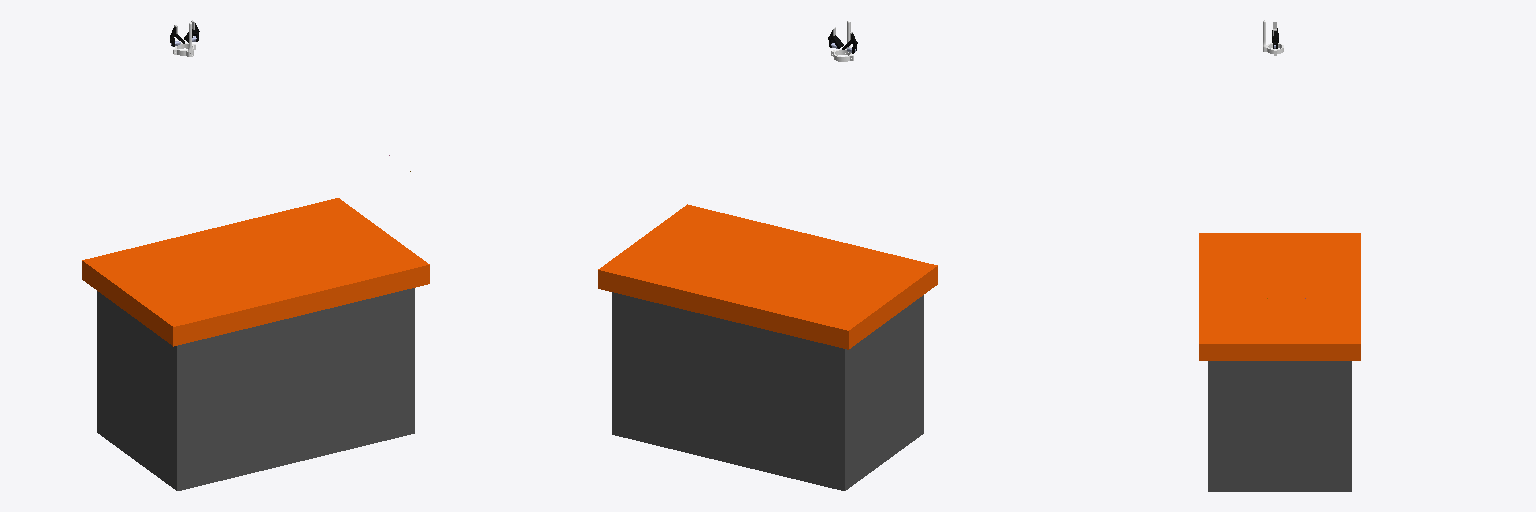
--- Render facts (derived) ---
3 views of the same robot in one strip: view 1: azimuth 30°, elevation 25°; view 2: azimuth 150°, elevation 25°; view 3: azimuth 270°, elevation 25° (orthographic).
Robot: kinova_fel_shape_completion — 35 links, 34 joints (9 revolute, 4 continuous, 21 fixed); root link world; default pose: every joint at zero.
Visible links, largest first — view 1: table1; view 2: table1; view 3: table1.
Boxes of the visible links, <box> form: table1: <box>82,198,429,490</box>; table1: <box>598,204,937,490</box>; table1: <box>1199,233,1360,491</box>.
Size in the robot's own frame: 1.49 by 0.855 by 2.25 metres.
11 mesh visuals loaded from 17 distinct referenced files (6 binary STL); not drawn: 11 (reference not matched to a file when rendering).

The robot description file, URDF, robot "kinova_fel_shape_completion":
<?xml version="1.0" encoding="utf-8"?>

<!-- =================================================================================== -->

<!-- |    This document was autogenerated by xacro from [local-path]/work/shape_detection/main_ws/src/kinova_mujoco/urdf/kinova_fel_shape_completion.xacro | -->

<!-- |    EDITING THIS FILE BY HAND IS NOT RECOMMENDED                                 | -->

<!-- =================================================================================== -->

<robot name="kinova_fel_shape_completion">

  <mujoco>

    <compiler balanceinertia="true" meshdir="../meshes/" strippath="true"/>

  </mujoco>

  <material name="aluminum">

    <color rgba="0.5 0.5 0.5 1"/>

  </material>

  <material name="plastic">

    <color rgba="0.1 0.1 0.1 1"/>

  </material>

  <material name="Black">

    <color rgba="0.0 0.0 0.0 1.0"/>

  </material>

  <material name="Blue">

    <color rgba="0.0 0.0 0.8 1.0"/>

  </material>

  <material name="Green">

    <color rgba="0.0 0.8 0.0 1.0"/>

  </material>

  <material name="Grey">

    <color rgba="0.4 0.4 0.4 1.0"/>

  </material>

  <material name="Orange">

    <color rgba="1.0 0.423529411765 0.0392156862745 1.0"/>

  </material>

  <material name="Brown">

    <color rgba="0.870588235294 0.811764705882 0.764705882353 1.0"/>

  </material>

  <material name="Red">

    <color rgba="0.8 0.0 0.0 1.0"/>

  </material>

  <material name="White">

    <color rgba="1.0 1.0 1.0 1.0"/>

  </material>

  <material name="Purple">

    <color rgba="0.2117 0.3294 0.4666 1.0"/>

  </material>

  <material name="dummy">

    <color rgba="0.75294 0.75294 0.75294 1"/>

  </material>

  <link name="world"/>

  <joint name="world_robot_joint" type="fixed">

    <origin rpy="0 0 0" xyz="0 0 0.0"/>

    <parent link="world"/>

    <child link="base_link"/>

  </joint>

  <!-- Run the macros -->

  <link name="base_link">

    <inertial>

      <origin rpy="0 0 0" xyz="-0.000648 -0.000166 0.084487"/>

      <mass value="1.697"/>

      <inertia ixx="0.004622" ixy="9E-06" ixz="6E-05" iyy="0.004495" iyz="9E-06" izz="0.002079"/>

    </inertial>

    <visual>

      <origin rpy="0 0 0" xyz="0 0 0"/>

      <geometry>

        <mesh filename="package://kinova_mujoco/meshes/base_link.STL"/>
      </geometry>

      <material name="DUMMY_MATERIAL">

        <color rgba="0.75294 0.75294 0.75294 1"/>

      </material>

    </visual>

    <collision>

      <origin rpy="0 0 0" xyz="0 0 0"/>

      <geometry>

        <mesh filename="package://kinova_mujoco/meshes/base_link.STL"/>
      </geometry>

    </collision>

  </link>

  <link name="shoulder_link">

    <inertial>

      <origin rpy="0 0 0" xyz="-2.3E-05 -0.010364 -0.07336"/>

      <mass value="1.3773"/>

      <inertia ixx="0.00457" ixy="1E-06" ixz="2E-06" iyy="0.004831" iyz="0.000448" izz="0.001409"/>

    </inertial>

    <visual>

      <origin rpy="0 0 0" xyz="0 0 0"/>

      <geometry>

        <mesh filename="package://kinova_mujoco/meshes/shoulder_link.STL"/>
      </geometry>

      <material name="DUMMY_MATERIAL">

        <color rgba="0.75294 0.75294 0.75294 1"/>

      </material>

    </visual>

    <collision>

      <origin rpy="0 0 0" xyz="0 0 0"/>

      <geometry>

        <mesh filename="package://kinova_mujoco/meshes/shoulder_link.STL"/>
      </geometry>

    </collision>

  </link>

  <joint name="joint_1" type="continuous">

    <origin rpy="3.1416 2.7629E-18 -4.9305E-36" xyz="0 0 0.15643"/>

    <parent link="base_link"/>

    <child link="shoulder_link"/>

    <axis xyz="0 0 1"/>

    <limit effort="39" velocity="1.3963"/>

  </joint>

  <link name="half_arm_1_link">

    <inertial>

      <origin rpy="0 0 0" xyz="-4.4E-05 -0.09958 -0.013278"/>

      <mass value="1.1636"/>

      <inertia ixx="0.011088" ixy="5E-06" ixz="0" iyy="0.001072" iyz="-0.000691" izz="0.011255"/>

    </inertial>

    <visual>

      <origin rpy="0 0 0" xyz="0 0 0"/>

      <geometry>

        <mesh filename="package://kinova_mujoco/meshes/half_arm_1_link.STL"/>
      </geometry>

      <material name="DUMMY_MATERIAL">

        <color rgba="0.75294 0.75294 0.75294 1"/>

      </material>

    </visual>

    <collision>

      <origin rpy="0 0 0" xyz="0 0 0"/>

      <geometry>

        <mesh filename="package://kinova_mujoco/meshes/half_arm_1_link.STL"/>
      </geometry>

    </collision>

  </link>

  <joint name="joint_2" type="revolute">

    <origin rpy="1.5708 2.1343E-17 -1.1102E-16" xyz="0 0.005375 -0.12838"/>

    <parent link="shoulder_link"/>

    <child link="half_arm_1_link"/>

    <axis xyz="0 0 1"/>

    <limit effort="39" lower="-2.41" upper="2.41" velocity="1.3963"/>

  </joint>

  <link name="half_arm_2_link">

    <inertial>

      <origin rpy="0 0 0" xyz="-4.4E-05 -0.006641 -0.117892"/>

      <mass value="1.1636"/>

      <inertia ixx="0.010932" ixy="0" ixz="-7E-06" iyy="0.011127" iyz="0.000606" izz="0.001043"/>

    </inertial>

    <visual>

      <origin rpy="0 0 0" xyz="0 0 0"/>

      <geometry>

        <mesh filename="package://kinova_mujoco/meshes/half_arm_2_link.STL"/>
      </geometry>

      <material name="DUMMY_MATERIAL">

        <color rgba="0.75294 0.75294 0.75294 1"/>

      </material>

    </visual>

    <collision>

      <origin rpy="0 0 0" xyz="0 0 0"/>

      <geometry>

        <mesh filename="package://kinova_mujoco/meshes/half_arm_2_link.STL"/>
      </geometry>

    </collision>

  </link>

  <joint name="joint_3" type="continuous">

    <origin rpy="-1.5708 1.2326E-32 -2.9122E-16" xyz="0 -0.21038 -0.006375"/>

    <parent link="half_arm_1_link"/>

    <child link="half_arm_2_link"/>

    <axis xyz="0 0 1"/>

    <limit effort="39" velocity="1.3963"/>

  </joint>

  <link name="forearm_link">

    <inertial>

      <origin rpy="0 0 0" xyz="-1.8E-05 -0.075478 -0.015006"/>

      <mass value="0.9302"/>

      <inertia ixx="0.008147" ixy="-1E-06" ixz="0" iyy="0.000631" iyz="-0.0005" izz="0.008316"/>

    </inertial>

    <visual>

      <origin rpy="0 0 0" xyz="0 0 0"/>

      <geometry>

        <mesh filename="package://kinova_mujoco/meshes/forearm_link.STL"/>
      </geometry>

      <material name="DUMMY_MATERIAL">

        <color rgba="0.75294 0.75294 0.75294 1"/>

      </material>

    </visual>

    <collision>

      <origin rpy="0 0 0" xyz="0 0 0"/>

      <geometry>

        <mesh filename="package://kinova_mujoco/meshes/forearm_link.STL"/>
      </geometry>

    </collision>

  </link>

  <joint name="joint_4" type="revolute">

    <origin rpy="1.5708 -6.6954E-17 -1.6653E-16" xyz="0 0.006375 -0.21038"/>

    <parent link="half_arm_2_link"/>

    <child link="forearm_link"/>

    <axis xyz="0 0 1"/>

    <limit effort="39" lower="-2.57" upper="2.57" velocity="1.3963"/>

    <!--2.66-->

  </joint>

  <link name="spherical_wrist_1_link">

    <inertial>

      <origin rpy="0 0 0" xyz="1E-06 -0.009432 -0.063883"/>

      <mass value="0.6781"/>

      <inertia ixx="0.001596" ixy="0" ixz="0" iyy="0.001607" iyz="0.000256" izz="0.000399"/>

    </inertial>

    <visual>

      <origin rpy="0 0 0" xyz="0 0 0"/>

      <geometry>

        <mesh filename="package://kinova_mujoco/meshes/spherical_wrist_1_link.STL"/>
      </geometry>

      <material name="DUMMY_MATERIAL">

        <color rgba="0.75294 0.75294 0.75294 1"/>

      </material>

    </visual>

    <collision>

      <origin rpy="0 0 0" xyz="0 0 0"/>

      <geometry>

        <mesh filename="package://kinova_mujoco/meshes/spherical_wrist_1_link.STL"/>
      </geometry>

    </collision>

  </link>

  <joint name="joint_5" type="continuous">

    <origin rpy="-1.5708 2.2204E-16 -6.373E-17" xyz="0 -0.20843 -0.006375"/>

    <parent link="forearm_link"/>

    <child link="spherical_wrist_1_link"/>

    <axis xyz="0 0 1"/>

    <limit effort="9" velocity="1.2218"/>

  </joint>

  <link name="spherical_wrist_2_link">

    <inertial>

      <origin rpy="0 0 0" xyz="1E-06 -0.045483 -0.00965"/>

      <mass value="0.6781"/>

      <inertia ixx="0.001641" ixy="0" ixz="0" iyy="0.00041" iyz="-0.000278" izz="0.001641"/>

    </inertial>

    <visual>

      <origin rpy="0 0 0" xyz="0 0 0"/>

      <geometry>

        <mesh filename="package://kinova_mujoco/meshes/spherical_wrist_2_link.STL"/>
      </geometry>

      <material name="DUMMY_MATERIAL">

        <color rgba="0.75294 0.75294 0.75294 1"/>

      </material>

    </visual>

    <collision>

      <origin rpy="0 0 0" xyz="0 0 0"/>

      <geometry>

        <mesh filename="package://kinova_mujoco/meshes/spherical_wrist_2_link.STL"/>
      </geometry>

    </collision>

  </link>

  <joint name="joint_6" type="revolute">

    <origin rpy="1.5708 9.2076E-28 -8.2157E-15" xyz="0 0.00017505 -0.10593"/>

    <parent link="spherical_wrist_1_link"/>

    <child link="spherical_wrist_2_link"/>

    <axis xyz="0 0 1"/>

    <limit effort="9" lower="-2.08" upper="2.08" velocity="1.2218"/>

    <!--2.23-->

  </joint>

  <link name="bracelet_link">

    <inertial>

      <origin rpy="0 0 0" xyz="0.000281 0.011402 -0.029798"/>

      <mass value="0.5"/>

      <inertia ixx="0.000587" ixy="3E-06" ixz="3E-06" iyy="0.000369" iyz="-0.000118" izz="0.000609"/>

    </inertial>

    <visual>

      <origin rpy="0 0 0" xyz="0 0 0"/>

      <geometry>

        <mesh filename="package://kinova_mujoco/meshes/bracelet_with_vision_link.STL"/>
      </geometry>

      <material name="DUMMY_MATERIAL">

        <color rgba="0.75294 0.75294 0.75294 1"/>

      </material>

    </visual>

    <collision>

      <origin rpy="0 0 0" xyz="0 0 0"/>

      <geometry>

        <mesh filename="package://kinova_mujoco/meshes/bracelet_with_vision_link.STL"/>
      </geometry>

    </collision>

  </link>

  <joint name="joint_7" type="continuous">

    <origin rpy="-1.5708 -5.5511E-17 9.6396E-17" xyz="0 -0.10593 -0.00017505"/>

    <parent link="spherical_wrist_2_link"/>

    <child link="bracelet_link"/>

    <axis xyz="0 0 1"/>

    <limit effort="9" velocity="1.2218"/>

  </joint>

  <link name="end_effector_link"/>

  <joint name="end_effector" type="fixed">

    <origin rpy="3.14159265358979 1.09937075168372E-32 0" xyz="0 0 -0.0615250000000001"/>

    <parent link="bracelet_link"/>

    <child link="end_effector_link"/>

    <axis xyz="0 0 0"/>

  </joint>

  <link name="camera_link"/>

  <joint name="camera_module" type="fixed">

    <origin rpy="3.14159265358979 3.14159265358979 0" xyz="0 0.05639 -0.00305"/>

    <parent link="end_effector_link"/>

    <child link="camera_link"/>

  </joint>

  <link name="camera_depth_frame"/>

  <joint name="depth_module" type="fixed">

    <origin rpy="3.14159265358979 3.14159265358979 0" xyz="0.0275 0.066 -0.00305"/>

    <parent link="end_effector_link"/>

    <child link="camera_depth_frame"/>

  </joint>

  <link name="camera_color_frame"/>

  <joint name="color_module" type="fixed">

    <origin rpy="3.14159265358979 3.14159265358979 0" xyz="0 0.05639 -0.00305"/>

    <parent link="end_effector_link"/>

    <child link="camera_color_frame"/>

  </joint>

  <!-- This line was removed by Kinova because we replaced the transmission file with our own 

    <xacro:include filename="$(find robotiq_2f_85_gripper_visualization)/urdf/robotiq_arg2f_transmission.xacro" /> -->

  <!-- Tool frame used by the arm -->

  <link name="tool_frame"/>

  <joint name="tool_frame_joint" type="fixed">

    <origin rpy="0 0 0" xyz="0 0 0.120"/>

    <parent link="end_effector_link"/>

    <child link="tool_frame"/>

    <axis xyz="0 0 0"/>

  </joint>

  <!-- This joint was added by Kinova -->

  <joint name="gripper_base_joint" type="fixed">

    <parent link="end_effector_link"/>

    <child link="robotiq_arg2f_base_link"/>

    <origin rpy="0.0 0.0 1.57" xyz="0.0 0.0 0.0"/>

  </joint>

  <link name="robotiq_arg2f_base_link">

    <inertial>

      <origin rpy="0 0 0" xyz="8.625E-08 -4.6583E-06 0.03145"/>

      <mass value="0.22652"/>

      <inertia ixx="0.00020005" ixy="-4.2442E-10" ixz="-2.9069E-10" iyy="0.00017832" iyz="-3.4402E-08" izz="0.00013478"/>

    </inertial>

    <visual>

      <origin rpy="0 0 0" xyz="0 0 0"/>

      <geometry>

        <!-- The DAE file doesn't show well in Gazebo so we're using the STL instead -->

        <!-- <mesh filename="package://kortex_description/grippers/robotiq_2f_85/meshes/visual/robotiq_arg2f_85_base_link.dae" scale="0.001 0.001 0.001"/> -->

        <mesh filename="package://kinova_mujoco/meshes/robotiq_arg2f_base_link.STL"/>
      </geometry>

      <material name="DUMMY_MATERIAL">

        <color rgba="0.1 0.1 0.1 1"/>

      </material>

    </visual>

    <collision>

      <origin rpy="0 0 0" xyz="0 0 0"/>

      <geometry>

        <mesh filename="package://kinova_mujoco/meshes/robotiq_arg2f_base_link.STL"/>
      </geometry>

    </collision>

  </link>

  <gazebo reference="robotiq_arg2f_base_link">

    <material>Gazebo/Black</material>

  </gazebo>

  <link name="left_outer_knuckle">

    <inertial>

      <origin rpy="0 0 0" xyz="-0.000200000000003065 0.0199435877845359 0.0292245259211331"/>

      <mass value="0.00853198276973456"/>

      <inertia ixx="2.89328108496468E-06" ixy="-1.57935047237397E-19" ixz="-1.93980378593255E-19" iyy="1.86719750325683E-06" iyz="-1.21858577871576E-06" izz="1.21905238907251E-06"/>

    </inertial>

    <visual>

      <origin rpy="0 0 0" xyz="0 0 0"/>

      <geometry>

        <mesh filename="package://kinova_mujoco/meshes/robotiq_arg2f_85_outer_knuckle.STL" scale="0.001 0.001 0.001"/>
      </geometry>

      <material name="DUMMY_MATERIAL">

        <color rgba="0.792156862745098 0.819607843137255 0.933333333333333 1"/>

      </material>

    </visual>

    <collision>

      <origin rpy="0 0 0" xyz="0 0 0"/>

      <geometry>

        <mesh filename="package://kinova_mujoco/meshes/robotiq_arg2f_85_outer_knuckle.STL" scale="0.001 0.001 0.001"/>
      </geometry>

    </collision>

  </link>

  <link name="left_outer_finger">

    <inertial>

      <origin rpy="0 0 0" xyz="0.00030115855001899 0.0373907951953854 -0.0208027427000385"/>

      <mass value="0.022614240507152"/>

      <inertia ixx="1.52518312458174E-05" ixy="9.76583423954399E-10" ixz="-5.43838577022588E-10" iyy="6.17694243867776E-06" iyz="6.78636130740228E-06" izz="1.16494917907219E-05"/>

    </inertial>

    <visual>

      <origin rpy="0 0 0" xyz="0 0 0"/>

      <geometry>

        <mesh filename="package://kinova_mujoco/meshes/robotiq_arg2f_85_outer_finger.STL" scale="0.001 0.001 0.001"/>
      </geometry>

      <material name="DUMMY_MATERIAL">

        <color rgba="0.1 0.1 0.1 1"/>

      </material>

    </visual>

    <collision>

      <origin rpy="0 0 0" xyz="0 0 0"/>

      <geometry>

        <mesh filename="package://kinova_mujoco/meshes/robotiq_arg2f_85_outer_finger.STL" scale="0.001 0.001 0.001"/>
      </geometry>

    </collision>

  </link>

  <link name="left_inner_finger">

    <inertial>

      <origin rpy="0 0 0" xyz="0.000299999999999317 0.0160078233491243 -0.0136945669206257"/>

      <mass value="0.0104003125914103"/>

      <inertia ixx="2.71909453810972E-06" ixy="1.35402465472579E-21" ixz="-7.1817349065269E-22" iyy="7.69100314106116E-07" iyz="6.74715432769696E-07" izz="2.30315190420171E-06"/>

    </inertial>

    <visual>

      <origin rpy="0 0 0" xyz="0 0 0"/>

      <geometry>

        <mesh filename="package://kinova_mujoco/meshes/robotiq_arg2f_85_inner_finger.STL" scale="0.001 0.001 0.001"/>
      </geometry>

      <material name="DUMMY_MATERIAL">

        <color rgba="0.1 0.1 0.1 1"/>

      </material>

    </visual>

    <collision>

      <origin rpy="0 0 0" xyz="0 0 0"/>

      <geometry>

        <mesh filename="package://kinova_mujoco/meshes/robotiq_arg2f_85_inner_finger.STL" scale="0.001 0.001 0.001"/>
      </geometry>

    </collision>

  </link>

  <link name="left_inner_finger_pad">

    <visual>

      <origin rpy="0 0 0" xyz="0 0 0"/>

      <geometry>

        <box size="0.022 0.00635 0.0375"/>

      </geometry>

      <material name="DUMMY_MATERIAL">

        <color rgba="0.9 0.9 0.9 1"/>

      </material>

    </visual>

    <collision>

      <origin rpy="0 0 0" xyz="0 0 0"/>

      <geometry>

        <box size="0.022 0.00635 0.0375"/>

      </geometry>

      <material name="DUMMY_MATERIAL">

        <color rgba="0.9 0.0 0.0 1"/>

      </material>

    </collision>

  </link>

  <link name="left_inner_knuckle">

    <inertial>

      <origin rpy="0 0 0" xyz="0.000123011831763771 0.0507850843201817 0.00103968640075166"/>

      <mass value="0.0271177346495152"/>

      <inertia ixx="2.61910379223783E-05" ixy="-2.43616858946494E-07" ixz="-6.37789906117123E-09" iyy="2.8270243746167E-06" iyz="-5.37200748039765E-07" izz="2.83695868220296E-05"/>

    </inertial>

    <visual>

      <origin rpy="0 0 0" xyz="0 0 0"/>

      <geometry>

        <mesh filename="package://kinova_mujoco/meshes/robotiq_arg2f_85_inner_knuckle.STL" scale="0.001 0.001 0.001"/>
      </geometry>

      <material name="DUMMY_MATERIAL">

        <color rgba="0.1 0.1 0.1 1"/>

      </material>

    </visual>

    <collision>

      <origin rpy="0 0 0" xyz="0 0 0"/>

      <geometry>

        <mesh filename="package://kinova_mujoco/meshes/robotiq_arg2f_85_inner_knuckle.STL" scale="0.001 0.001 0.001"/>
      </geometry>

    </collision>

  </link>

  <link name="right_outer_knuckle">

    <inertial>

      <origin rpy="0 0 0" xyz="-0.000200000000003065 0.0199435877845359 0.0292245259211331"/>

      <mass value="0.00853198276973456"/>

      <inertia ixx="2.89328108496468E-06" ixy="-1.57935047237397E-19" ixz="-1.93980378593255E-19" iyy="1.86719750325683E-06" iyz="-1.21858577871576E-06" izz="1.21905238907251E-06"/>

    </inertial>

    <visual>

      <origin rpy="0 0 0" xyz="0 0 0"/>

      <geometry>

        <mesh filename="package://kinova_mujoco/meshes/robotiq_arg2f_85_outer_knuckle.STL" scale="0.001 0.001 0.001"/>
      </geometry>

      <material name="DUMMY_MATERIAL">

        <color rgba="0.792156862745098 0.819607843137255 0.933333333333333 1"/>

      </material>

    </visual>

    <collision>

      <origin rpy="0 0 0" xyz="0 0 0"/>

      <geometry>

        <mesh filename="package://kinova_mujoco/meshes/robotiq_arg2f_85_outer_knuckle.STL" scale="0.001 0.001 0.001"/>
      </geometry>

    </collision>

  </link>

  <link name="right_outer_finger">

    <inertial>

      <origin rpy="0 0 0" xyz="0.00030115855001899 0.0373907951953854 -0.0208027427000385"/>

      <mass value="0.022614240507152"/>

      <inertia ixx="1.52518312458174E-05" ixy="9.76583423954399E-10" ixz="-5.43838577022588E-10" iyy="6.17694243867776E-06" iyz="6.78636130740228E-06" izz="1.16494917907219E-05"/>

    </inertial>

    <visual>

      <origin rpy="0 0 0" xyz="0 0 0"/>

      <geometry>

        <mesh filename="package://kinova_mujoco/meshes/robotiq_arg2f_85_outer_finger.STL" scale="0.001 0.001 0.001"/>
      </geometry>

      <material name="DUMMY_MATERIAL">

        <color rgba="0.1 0.1 0.1 1"/>

      </material>

    </visual>

    <collision>

      <origin rpy="0 0 0" xyz="0 0 0"/>

      <geometry>

        <mesh filename="package://kinova_mujoco/meshes/robotiq_arg2f_85_outer_finger.STL" scale="0.001 0.001 0.001"/>
      </geometry>

    </collision>

  </link>

  <link name="right_inner_finger">

    <inertial>

      <origin rpy="0 0 0" xyz="0.000299999999999317 0.0160078233491243 -0.0136945669206257"/>

      <mass value="0.0104003125914103"/>

      <inertia ixx="2.71909453810972E-06" ixy="1.35402465472579E-21" ixz="-7.1817349065269E-22" iyy="7.69100314106116E-07" iyz="6.74715432769696E-07" izz="2.30315190420171E-06"/>

    </inertial>

    <visual>

      <origin rpy="0 0 0" xyz="0 0 0"/>

      <geometry>

        <mesh filename="package://kinova_mujoco/meshes/robotiq_arg2f_85_inner_finger.STL" scale="0.001 0.001 0.001"/>
      </geometry>

      <material name="DUMMY_MATERIAL">

        <color rgba="0.1 0.1 0.1 1"/>

      </material>

    </visual>

    <collision>

      <origin rpy="0 0 0" xyz="0 0 0"/>

      <geometry>

        <mesh filename="package://kinova_mujoco/meshes/robotiq_arg2f_85_inner_finger.STL" scale="0.001 0.001 0.001"/>
      </geometry>

    </collision>

  </link>

  <link name="right_inner_finger_pad">

    <visual>

      <origin rpy="0 0 0" xyz="0 0 0"/>

      <geometry>

        <box size="0.022 0.00635 0.0375"/>

      </geometry>

      <material name="DUMMY_MATERIAL">

        <color rgba="0.9 0.9 0.9 1"/>

      </material>

    </visual>

    <collision>

      <origin rpy="0 0 0" xyz="0 0 0"/>

      <geometry>

        <box size="0.022 0.00635 0.0375"/>

      </geometry>

      <material name="DUMMY_MATERIAL">

        <color rgba="0.9 0.0 0.0 1"/>

      </material>

    </collision>

  </link>

  <link name="right_inner_knuckle">

    <inertial>

      <origin rpy="0 0 0" xyz="0.000123011831763771 0.0507850843201817 0.00103968640075166"/>

      <mass value="0.0271177346495152"/>

      <inertia ixx="2.61910379223783E-05" ixy="-2.43616858946494E-07" ixz="-6.37789906117123E-09" iyy="2.8270243746167E-06" iyz="-5.37200748039765E-07" izz="2.83695868220296E-05"/>

    </inertial>

    <visual>

      <origin rpy="0 0 0" xyz="0 0 0"/>

      <geometry>

        <mesh filename="package://kinova_mujoco/meshes/robotiq_arg2f_85_inner_knuckle.STL" scale="0.001 0.001 0.001"/>
      </geometry>

      <material name="DUMMY_MATERIAL">

        <color rgba="0.1 0.1 0.1 1"/>

      </material>

    </visual>

    <collision>

      <origin rpy="0 0 0" xyz="0 0 0"/>

      <geometry>

        <mesh filename="package://kinova_mujoco/meshes/robotiq_arg2f_85_inner_knuckle.STL" scale="0.001 0.001 0.001"/>
      </geometry>

    </collision>

  </link>

  <joint name="finger_joint" type="revolute">

    <origin rpy="0 0 3.14159265359" xyz="0 -0.0306011 0.054904"/>

    <parent link="robotiq_arg2f_base_link"/>

    <child link="left_outer_knuckle"/>

    <axis xyz="1 0 0"/>

    <limit effort="1000" lower="0" upper="0.8" velocity="2.0"/>

  </joint>

  <joint name="left_outer_finger_joint" type="fixed">

    <origin rpy="0 0 0" xyz="0 0.0315 -0.0041"/>

    <parent link="left_outer_knuckle"/>

    <child link="left_outer_finger"/>

    <axis xyz="1 0 0"/>

  </joint>

  <joint name="left_inner_knuckle_joint" type="revolute">

    <!-- <origin xyz="0 ${reflect * -0.0127} 0.06142" rpy="${pi / 2 + .725} 0 ${(reflect - 1) * pi / 2}" /> -->

    <origin rpy="0 0 3.14159265359" xyz="0 -0.0127 0.06142"/>

    <parent link="robotiq_arg2f_base_link"/>

    <child link="left_inner_knuckle"/>

    <axis xyz="1 0 0"/>

    <limit effort="1000" lower="0" upper="0.8757" velocity="2.0"/>

  </joint>

  <joint name="left_inner_finger_joint" type="revolute">

    <origin rpy="0 0 0" xyz="0 0.0061 0.0471"/>

    <parent link="left_outer_finger"/>

    <child link="left_inner_finger"/>

    <axis xyz="1 0 0"/>

    <limit effort="1000" lower="-0.8757" upper="0.8757" velocity="2.0"/>

  </joint>

  <joint name="left_inner_finger_pad_joint" type="fixed">

    <origin rpy="0 0 0" xyz="0 -0.0220203446692936 0.03242"/>

    <parent link="left_inner_finger"/>

    <child link="left_inner_finger_pad"/>

    <axis xyz="0 0 1"/>

  </joint>

  <joint name="right_outer_knuckle_joint" type="revolute">

    <origin rpy="0 0 0" xyz="0 0.0306011 0.054904"/>

    <parent link="robotiq_arg2f_base_link"/>

    <child link="right_outer_knuckle"/>

    <axis xyz="1 0 0"/>

    <limit effort="1000" lower="0" upper="0.81" velocity="2.0"/>

  </joint>

  <joint name="right_outer_finger_joint" type="fixed">

    <origin rpy="0 0 0" xyz="0 0.0315 -0.0041"/>

    <parent link="right_outer_knuckle"/>

    <child link="right_outer_finger"/>

    <axis xyz="1 0 0"/>

  </joint>

  <joint name="right_inner_knuckle_joint" type="revolute">

    <!-- <origin xyz="0 ${reflect * -0.0127} 0.06142" rpy="${pi / 2 + .725} 0 ${(reflect - 1) * pi / 2}" /> -->

    <origin rpy="0 0 0.0" xyz="0 0.0127 0.06142"/>

    <parent link="robotiq_arg2f_base_link"/>

    <child link="right_inner_knuckle"/>

    <axis xyz="1 0 0"/>

    <limit effort="1000" lower="0" upper="0.8757" velocity="2.0"/>

  </joint>

  <joint name="right_inner_finger_joint" type="revolute">

    <origin rpy="0 0 0" xyz="0 0.0061 0.0471"/>

    <parent link="right_outer_finger"/>

    <child link="right_inner_finger"/>

    <axis xyz="1 0 0"/>

    <limit effort="1000" lower="-0.8757" upper="0.8757" velocity="2.0"/>

  </joint>

  <joint name="right_inner_finger_pad_joint" type="fixed">

    <origin rpy="0 0 0" xyz="0 -0.0220203446692936 0.03242"/>

    <parent link="right_inner_finger"/>

    <child link="right_inner_finger_pad"/>

    <axis xyz="0 0 1"/>

  </joint>

  <!-- Transmissions are loaded in the generic kortex xacro when simulation is enabled -->

  <!-- <xacro:robotiq_arg2f_transmission prefix="${prefix}"/> -->

  <material name="aluminum">

    <color rgba="0.5 0.5 0.5 1"/>

  </material>

  <material name="plastic">

    <color rgba="0.1 0.1 0.1 1"/>

  </material>

  <material name="Black">

    <color rgba="0.0 0.0 0.0 1.0"/>

  </material>

  <material name="Blue">

    <color rgba="0.0 0.0 0.8 1.0"/>

  </material>

  <material name="Green">

    <color rgba="0.0 0.8 0.0 1.0"/>

  </material>

  <material name="Grey">

    <color rgba="0.4 0.4 0.4 1.0"/>

  </material>

  <material name="Orange">

    <color rgba="1.0 0.423529411765 0.0392156862745 1.0"/>

  </material>

  <material name="Brown">

    <color rgba="0.870588235294 0.811764705882 0.764705882353 1.0"/>

  </material>

  <material name="Red">

    <color rgba="0.8 0.0 0.0 1.0"/>

  </material>

  <material name="White">

    <color rgba="1.0 1.0 1.0 1.0"/>

  </material>

  <material name="Purple">

    <color rgba="0.2117 0.3294 0.4666 1.0"/>

  </material>

  <material name="dummy">

    <color rgba="0.75294 0.75294 0.75294 1"/>

  </material>

  <link name="finger_holder">

    <inertial>

      <origin rpy="0 0 0" xyz="-0.012491 0.037779 -0.056801"/>

      <!--<origin rpy="0 0 0" xyz="-0.012491 0.051931 -0.05963"/>-->

      <mass value="0.068815"/>

      <!--<mass value="0.075511"/>-->

      <inertia ixx="0.0002228" ixy="4.3122e-8" ixz="-2e-12" iyy="0.0001279" iyz="0.00005549" izz="0.0001886"/>

      <!--<inertia ixx="0.0003859" ixy="4.3121e-8" ixz="-2e-12" iyy="0.0001343" iyz="0.00008656" izz="0.0003455"/>-->

    </inertial>

    <visual>

      <origin rpy="0 0 0" xyz="0 0 0"/>

      <geometry>

        <mesh filename="package://kinova_mujoco/meshes/finger_holder.STL" scale="0.001 0.001 0.001"/>
      </geometry>

      <material name="DUMMY_MATERIAL">

        <color rgba="1 1 1 1"/>

      </material>

    </visual>

    <collision>

      <origin rpy="0 0 0" xyz="0 0 0"/>

      <geometry>

        <mesh filename="package://kinova_mujoco/meshes/finger_holder.STL" scale="0.001 0.001 0.001"/>
      </geometry>

    </collision>

  </link>

  <joint name="finger_holder_base_gripper" type="fixed">

    <parent link="robotiq_arg2f_base_link"/>

    <child link="finger_holder"/>

    <!--<origin rpy="0 0 0" xyz="-0.0325 -0.0125 0.003"/>-->

    <origin rpy="0 0 3.14" xyz="0.0325 0.0125 0.003"/>

  </joint>

  <link name="finger_link"/>

  <joint name="finger_base_gripper" type="fixed">

    <parent link="robotiq_arg2f_base_link"/>

    <child link="finger_link"/>

    <!--0.175 0.1775-->

    <origin rpy="0.0 0 0.0" xyz="-0.05642 0 0.1775"/>

    <!--<origin rpy="0.0 0 0.0" xyz="0.05642 0 0.175"/>-->

  </joint>

  <link name="table1">

    <inertial>

      <mass value="10.0"/>

      <inertia ixx="0.001" ixy="0.00" ixz="0.0" iyy="0.001" iyz="0.0" izz="0.001"/>

    </inertial>

    <visual>

      <geometry>

        <box size="1.385 0.855 0.1"/>

      </geometry>

      <material name="Orange"/>

      <origin rpy="0 0 0" xyz="0 0 -0.05"/>

    </visual>

    <visual>

      <geometry>

        <box size="1.285 0.755 0.78"/>

      </geometry>

      <material name="Grey"/>

      <origin rpy="0 0 0" xyz="0 0 -0.49"/>

    </visual>

    <collision>

      <geometry>

        <box size="1.385 0.855 0.88"/>

      </geometry>

      <material name="Red"/>

      <origin rpy="0 0 0" xyz="0 0 -0.44"/>

    </collision>

  </link>

  <joint name="table1_joint" type="fixed">

    <origin rpy="0 0 0" xyz="0.4 0.0 0.0"/>

    <parent link="base_link"/>

    <child link="table1"/>

  </joint>

  <link name="table1_mount"/>

  <joint name="table1_mount_joint" type="fixed">

    <origin rpy="0 0 0" xyz="-0.4625 0 0"/>

    <parent link="table1"/>

    <child link="table1_mount"/>

  </joint>

  <!-- camera body, with origin at bottom screw mount -->

  <joint name="camera1_joint" type="fixed">

    <origin rpy="0 0 3.1456" xyz="1.2 0.1 0.3"/>

    <parent link="base_link"/>

    <child link="camera1_bottom_screw_frame"/>

  </joint>

  <link name="camera1_bottom_screw_frame"/>

  <joint name="camera1_link_joint" type="fixed">

    <origin rpy="0 0 0" xyz="0.0106 0.0175 0.0125"/>

    <parent link="camera1_bottom_screw_frame"/>

    <child link="camera1_link"/>

  </joint>

  <link name="camera1_link">

    <visual>

      <!-- the mesh origin is at front plate in between the two infrared camera axes -->

      <origin rpy="1.57079632679 0 1.57079632679" xyz="0.0043 -0.0175 0"/>

      <geometry>

        <!-- <box size="${d435_cam_width} ${d435_cam_height} ${d435_cam_depth}"/> -->

        <mesh filename="package://kinova_mujoco/meshes/d435.STL"/>
      </geometry>

    </visual>

    <collision>

      <origin rpy="0 0 0" xyz="0 -0.0175 0"/>

      <geometry>

        <box size="0.02505 0.09 0.025"/>

      </geometry>

    </collision>

    <inertial>

      <!-- The following are not reliable values, and should not be used for modeling -->

      <mass value="0.072"/>

      <origin xyz="0 0 0"/>

      <inertia ixx="0.003881243" ixy="0.0" ixz="0.0" iyy="0.000498940" iyz="0.0" izz="0.003879257"/>

    </inertial>

  </link>

  <!-- camera body, with origin at bottom screw mount -->

  <joint name="camera2_joint" type="fixed">

    <origin rpy="0 0 3.1456" xyz="1.2 -0.1 0.3"/>

    <parent link="base_link"/>

    <child link="camera2_bottom_screw_frame"/>

  </joint>

  <link name="camera2_bottom_screw_frame"/>

  <joint name="camera2_link_joint" type="fixed">

    <origin rpy="0 0 0" xyz="0.0106 0.0175 0.0125"/>

    <parent link="camera2_bottom_screw_frame"/>

    <child link="camera2_link"/>

  </joint>

  <link name="camera2_link">

    <visual>

      <!-- the mesh origin is at front plate in between the two infrared camera axes -->

      <origin rpy="1.57079632679 0 1.57079632679" xyz="0.0043 -0.0175 0"/>

      <geometry>

        <!-- <box size="${d435_cam_width} ${d435_cam_height} ${d435_cam_depth}"/> -->

        <mesh filename="package://kinova_mujoco/meshes/d435.STL"/>
      </geometry>

    </visual>

    <collision>

      <origin rpy="0 0 0" xyz="0 -0.0175 0"/>

      <geometry>

        <box size="0.02505 0.09 0.025"/>

      </geometry>

    </collision>

    <inertial>

      <!-- The following are not reliable values, and should not be used for modeling -->

      <mass value="0.072"/>

      <origin xyz="0 0 0"/>

      <inertia ixx="0.003881243" ixy="0.0" ixz="0.0" iyy="0.000498940" iyz="0.0" izz="0.003879257"/>

    </inertial>

  </link>

  <link name="003_cracker_box_visual">

    <visual>

      <origin xyz="0 0 0"/>

      <geometry>

        <mesh filename="package://kinova_mujoco/meshes/003_cracker_box_visual.stl"/>
      </geometry>

      <material name="Grey"/>

    </visual>

  </link>

  <link name="003_cracker_box_000000">

    <inertial>

      <origin xyz="-0.02402132946267451 0.009821733548002533 0.11912762008621094"/>

      <mass value="2.574341123449223"/>

      <inertia ixx="1.681273983461399e-05" ixy="5.031838023462785e-08" ixz="2.2590149741280792e-07" iyy="1.221356527283585e-05" iyz="-2.6300293034227934e-08" izz="6.537191195823577e-06"/>

    </inertial>

    <visual>

      <origin xyz="0 0 0"/>

      <geometry>

        <mesh filename="package://kinova_mujoco/meshes/003_cracker_box_000000.stl"/>
      </geometry>

      <material name="Blue"/>

    </visual>

    <collision>

      <origin xyz="0 0 0"/>

      <geometry>

        <mesh filename="package://kinova_mujoco/meshes/003_cracker_box_000000.stl"/>
      </geometry>

      <material name="Blue"/>

    </collision>

    <contact/>

  </link>

  <joint name="003_cracker_box_joint_0000" type="fixed">

    <parent link="003_cracker_box_visual"/>

    <child link="003_cracker_box_000000"/>

  </joint>

  <joint name="joint_world_003_cracker_box" type="fixed">

    <parent link="base_link"/>

    <child link="003_cracker_box_visual"/>

    <origin xyz="0.6 0 0.15"/>

  </joint>

</robot>
